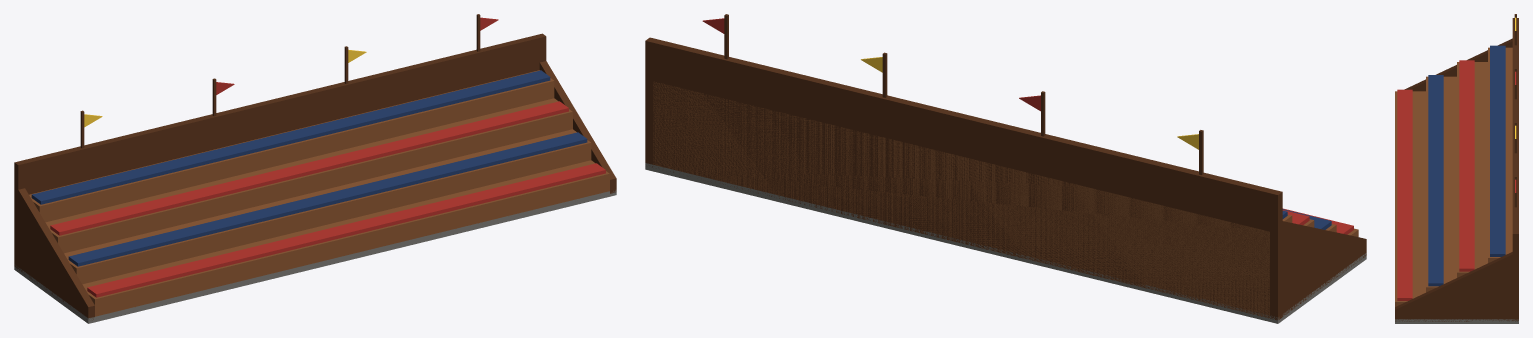
Rendered from stands-4x1.glb.
3 renders of one model, left to right at view 1: azimuth 30°, elevation 25°; view 2: azimuth 150°, elevation 25°; view 3: azimuth 270°, elevation 25°, orthographic. The views are drawn at different scales.
Visible parts, largest first — view 1: Stands4x1; view 2: Stands4x1; view 3: Stands4x1.
Part boxes in pixels (x1=…): Stands4x1: x1=14, y1=14, x2=616, y2=323; Stands4x1: x1=645, y1=14, x2=1366, y2=323; Stands4x1: x1=1395, y1=14, x2=1518, y2=323.
Size of the model in its own units: 3.96 by 1.03 by 0.96.
1 material, 1 textured.
